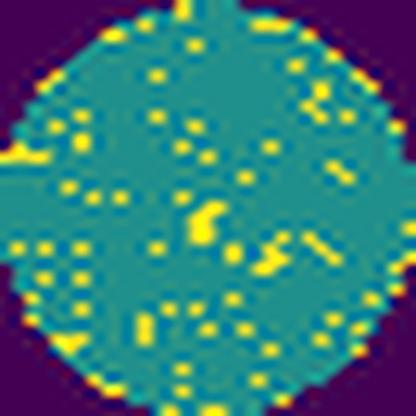Center: (184, 192, 232, 251)
